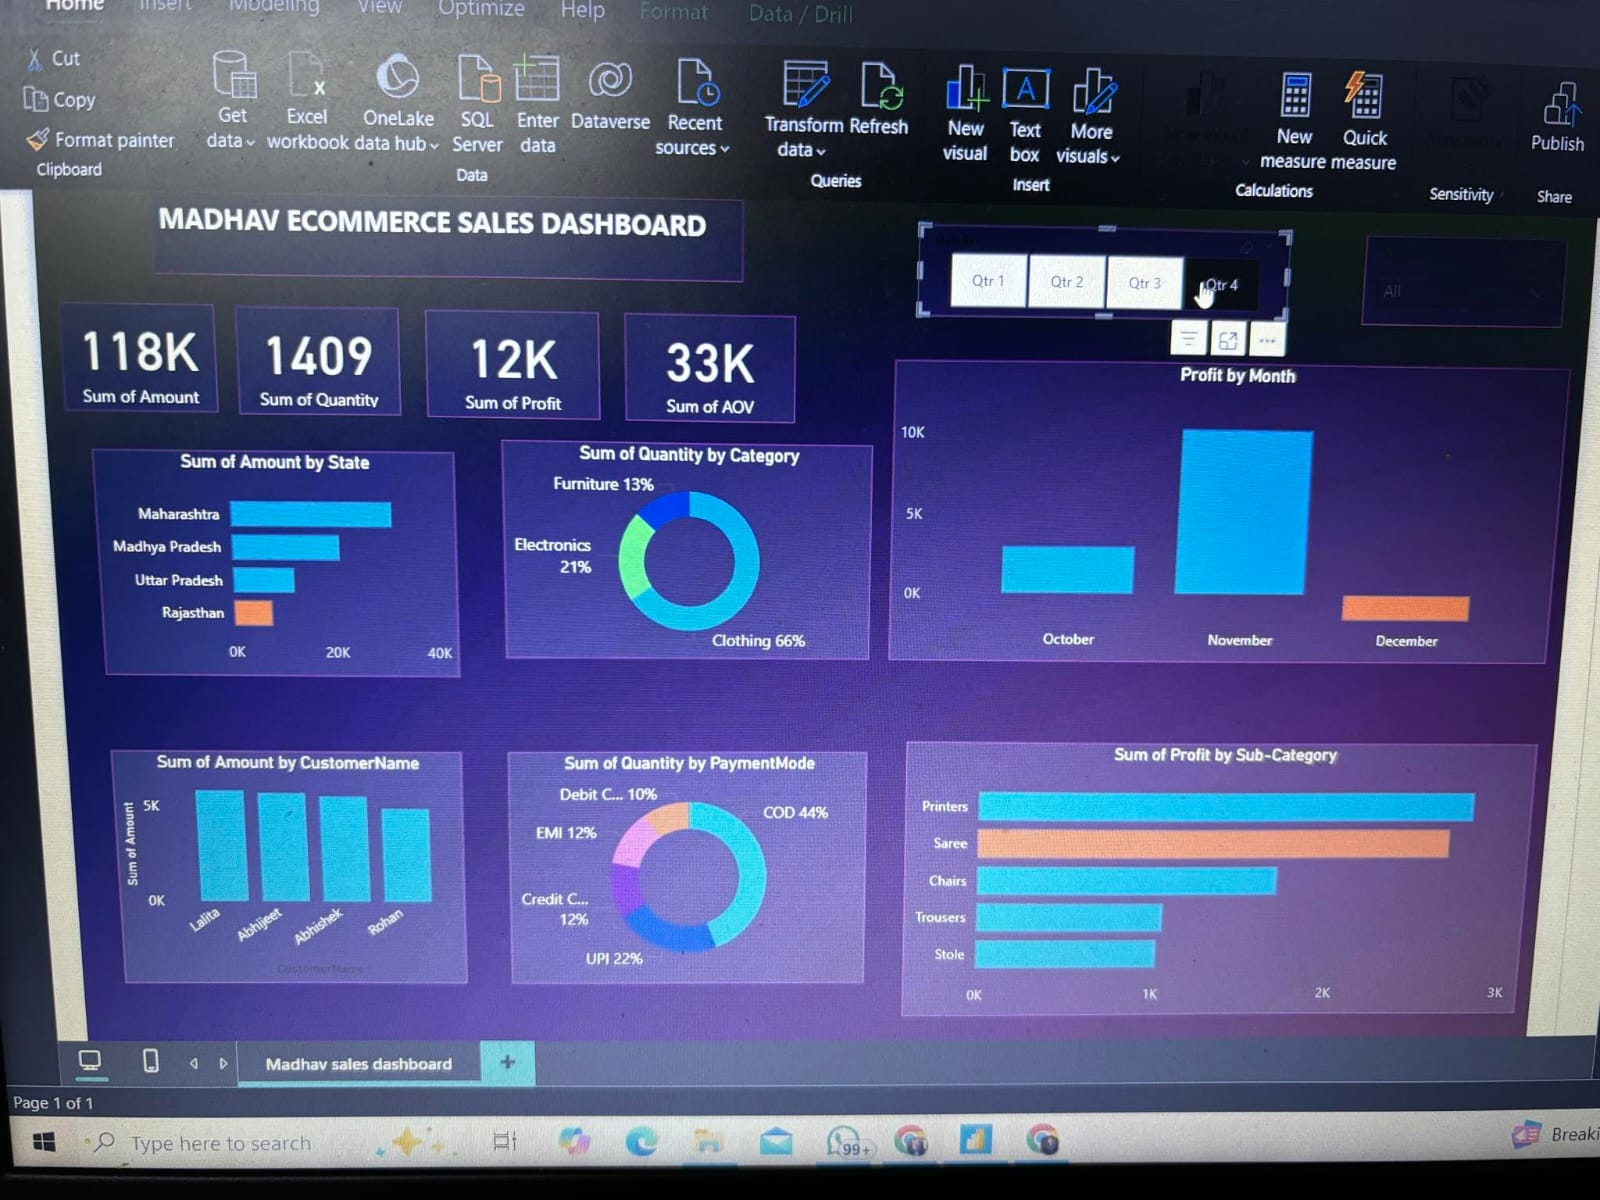

The dashboard page shown, as its layout file describes it:
{"tool":"powerbi","page":{"name":"Madhav sales dashboard","canvas":[1280,720],"ordinal":0},"visuals":[{"type":"textbox","box":[94.7,0,474.8,64.5],"z":0},{"type":"columnChart","title":"Profit by Month","fields":{"Y":["Sum(Details.Profit)"],"Category":["Orders.Order Date.Variation.Date Hierarchy.Month"]},"box":[694.3,124.9,572.2,252.5],"z":1000},{"type":"barChart","fields":{"Category":["Details.Sub-Category"],"Y":["Sum(Details.Profit)"]},"box":[711.8,449.1,554.4,248.2],"z":2000},{"type":"donutChart","fields":{"Category":["Details.Category"],"Y":["Sum(Details.Quantity)"]},"box":[370.5,194.9,307.4,182.5],"z":3000},{"type":"donutChart","fields":{"Y":["Sum(Details.Quantity)"],"Category":["Details.PaymentMode"]},"box":[370.4,458.8,307.5,207],"z":4000},{"type":"card","fields":{"Values":["Sum(Details.Amount)"]},"box":[16.5,87.8,123.5,86.4],"z":5000},{"type":"card","fields":{"Values":["Sum(Details.Quantity)"]},"box":[157.8,89.2,131.7,86.4],"z":6000},{"type":"card","fields":{"Values":["Sum(Details.Profit)"]},"box":[311.5,90.6,140,86.4],"z":7000},{"type":"card","fields":{"Values":["Sum(Details.AOV)"]},"box":[472,90.6,140,86.4],"z":8000},{"type":"barChart","fields":{"Category":["Orders.State"],"Y":["Sum(Details.Amount)"]},"box":[36.3,205.8,295.4,187.6],"z":9000},{"type":"columnChart","fields":{"Category":["Orders.CustomerName"],"Y":["Sum(Details.Amount)"]},"box":[36.3,458.8,295.4,207],"z":10000},{"type":"slicer","fields":{"Values":["Orders.Order Date.Variation.Date Hierarchy.Quarter"]},"box":[712.2,16.5,308.7,72.7],"z":11000},{"type":"slicer","fields":{"Values":["Orders.State"]},"box":[1084.1,17.8,171.5,72.7],"z":12000}]}

Visuals, with their boxes on the page's 1280x720 design canvas (x1, y1, x2, y2). These are canvas units, not pixel positions in the 1600x1200 screenshot, which may show the page scaled, cropped or inside an application window:
textbox: (x1=95, y1=0, x2=570, y2=64)
"Profit by Month" columnChart: (x1=694, y1=125, x2=1266, y2=377)
barChart - Details.Sub-Category x Sum(Details.Profit): (x1=712, y1=449, x2=1266, y2=697)
donutChart - Details.Category x Sum(Details.Quantity): (x1=370, y1=195, x2=678, y2=377)
donutChart - Sum(Details.Quantity) x Details.PaymentMode: (x1=370, y1=459, x2=678, y2=666)
card - Sum(Details.Amount): (x1=16, y1=88, x2=140, y2=174)
card - Sum(Details.Quantity): (x1=158, y1=89, x2=290, y2=176)
card - Sum(Details.Profit): (x1=312, y1=91, x2=452, y2=177)
card - Sum(Details.AOV): (x1=472, y1=91, x2=612, y2=177)
barChart - Orders.State x Sum(Details.Amount): (x1=36, y1=206, x2=332, y2=393)
columnChart - Orders.CustomerName x Sum(Details.Amount): (x1=36, y1=459, x2=332, y2=666)
slicer - Orders.Order Date.Variation.Date Hierarchy.Quarter: (x1=712, y1=16, x2=1021, y2=89)
slicer - Orders.State: (x1=1084, y1=18, x2=1256, y2=90)
